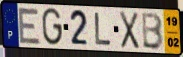2: (69, 8, 92, 50)
B: (142, 12, 165, 51)
E: (17, 6, 42, 46)
G: (41, 7, 63, 47)
L: (94, 11, 113, 47)
X: (119, 10, 141, 51)
